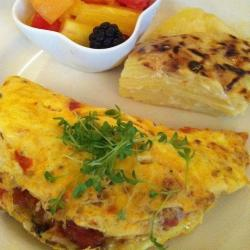omelette: (1, 83, 245, 245)
